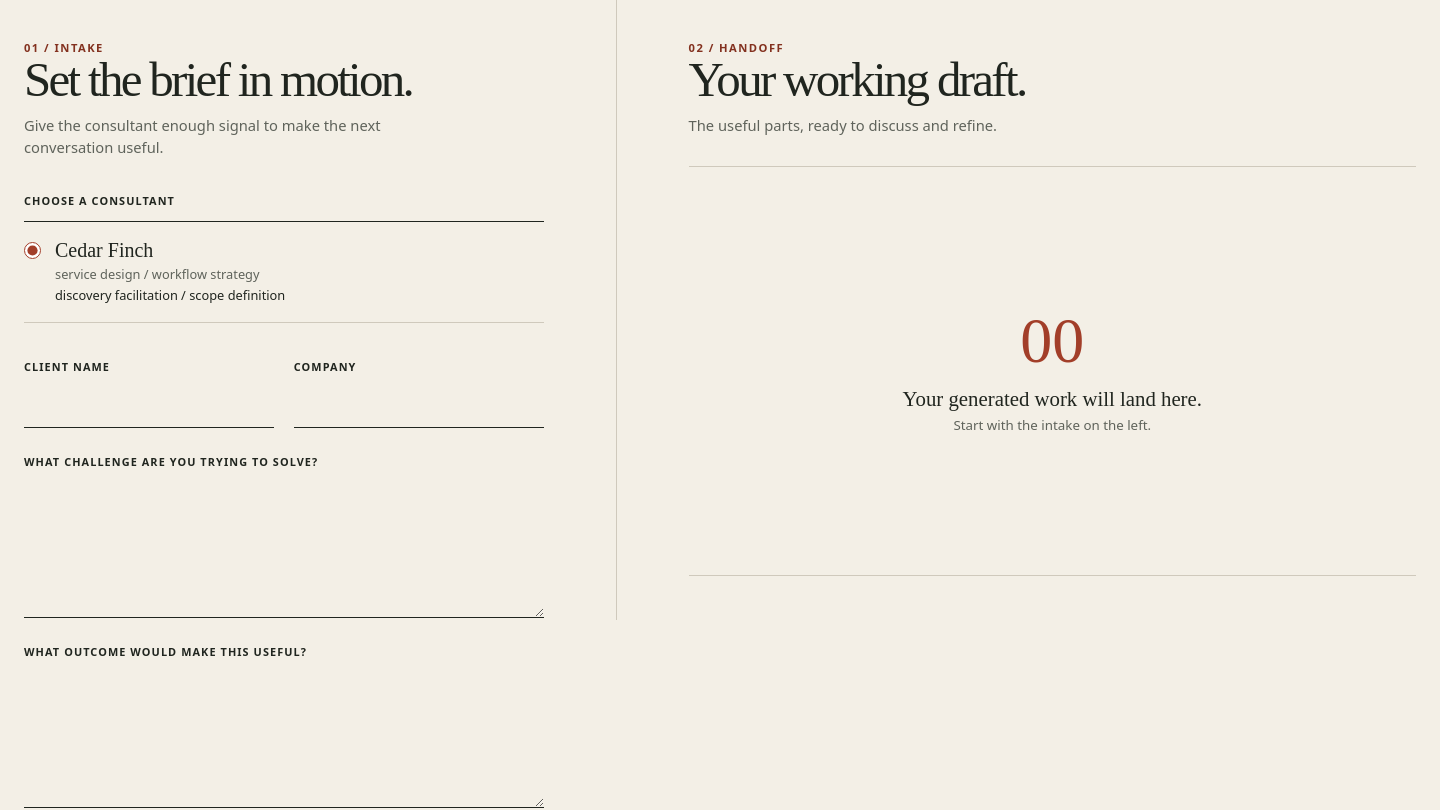
Test: ScopePilot consultant cockpit › renders a generic error when workflow generation fails
(page scrolled)
Check: the radio button labelled "Cedar Finch" is shown, box [24,242,41,258]
Type "Taylor Client" into the field labelled "Client name" at (149, 406), box [24,383,274,428]
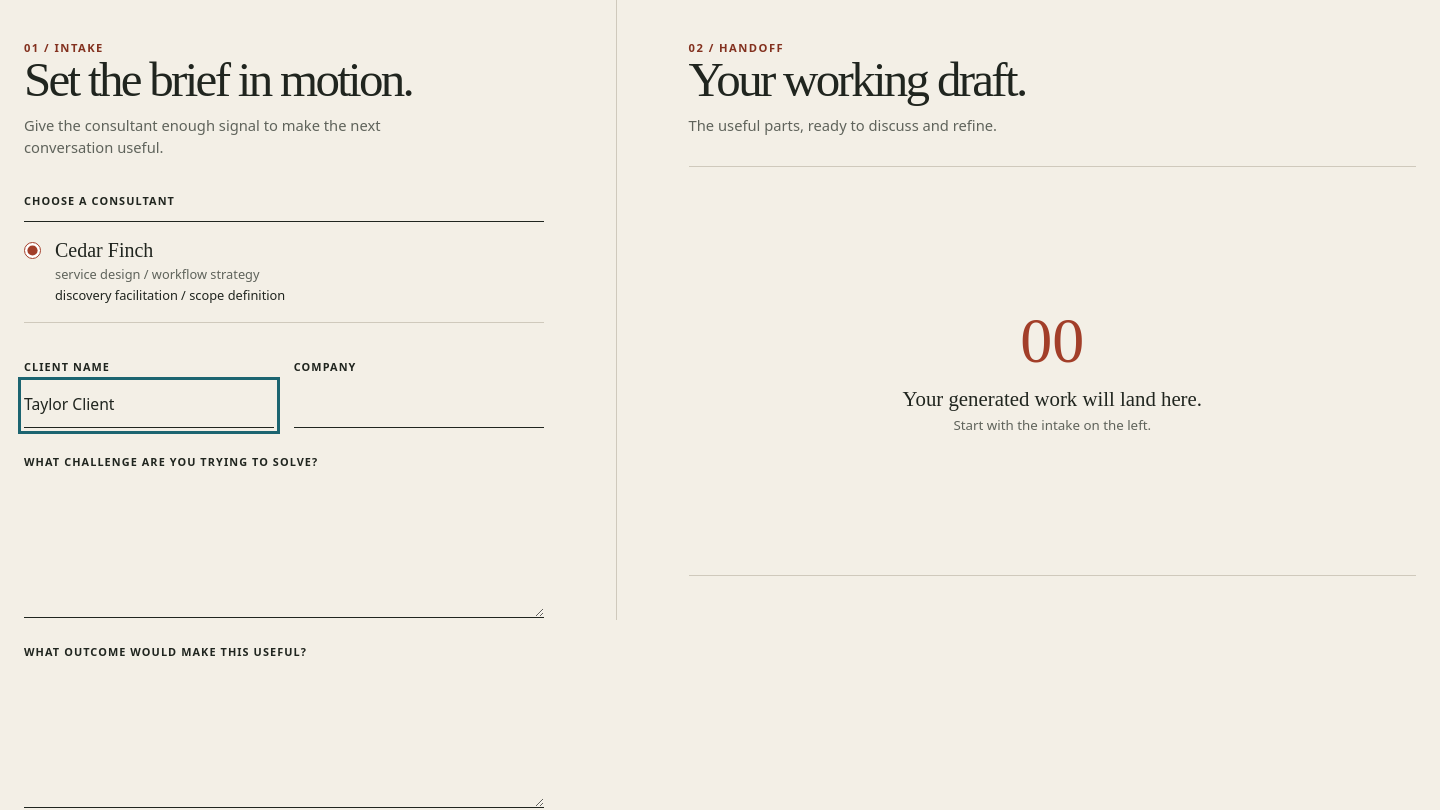
Type "Acme Demo Co." into the field labelled "Company" at (419, 406), box [294,383,544,428]
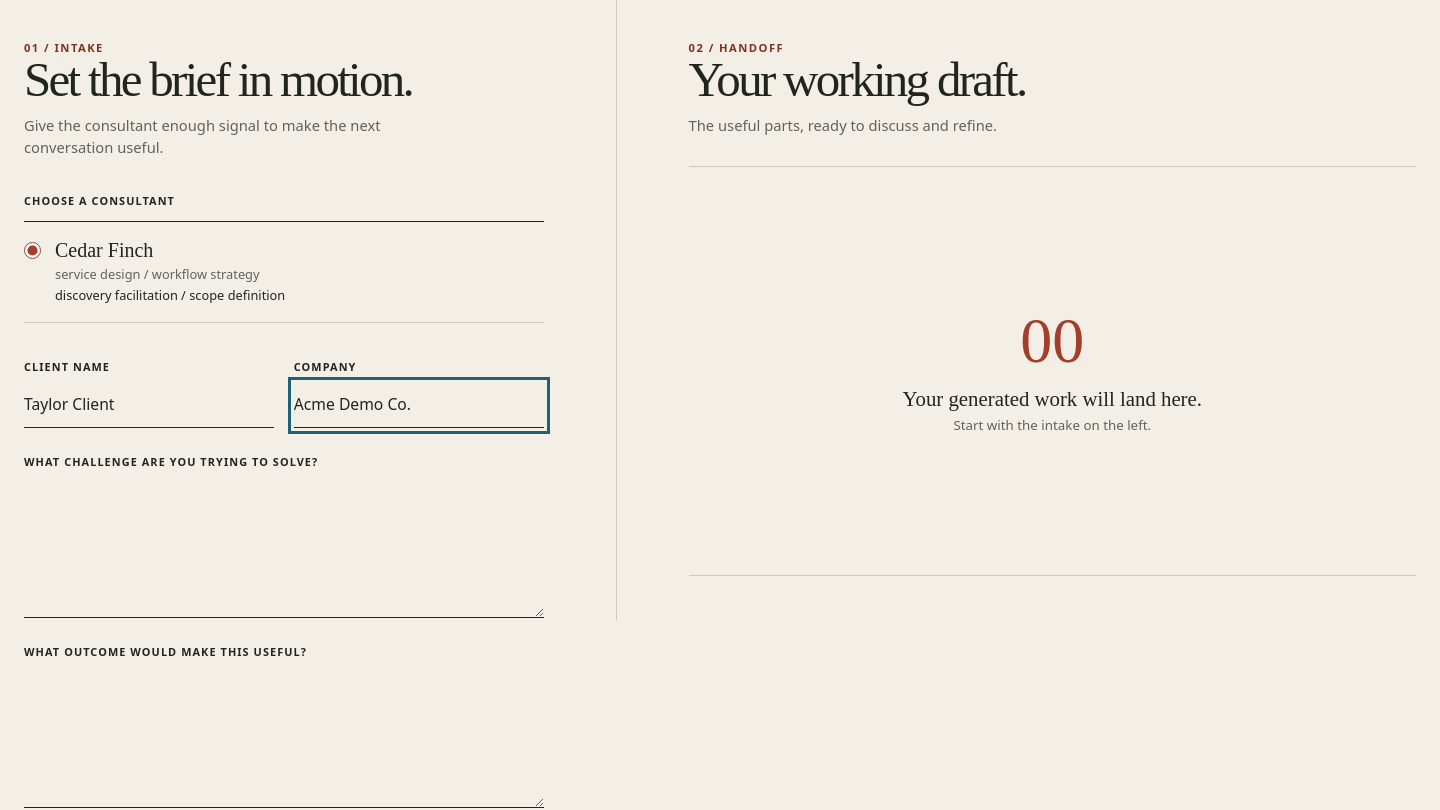
Type "The team needs a clearer way to scope incoming work." into the text box labelled "What challenge are you trying to solve?" at (284, 548), box [24,478,544,618]
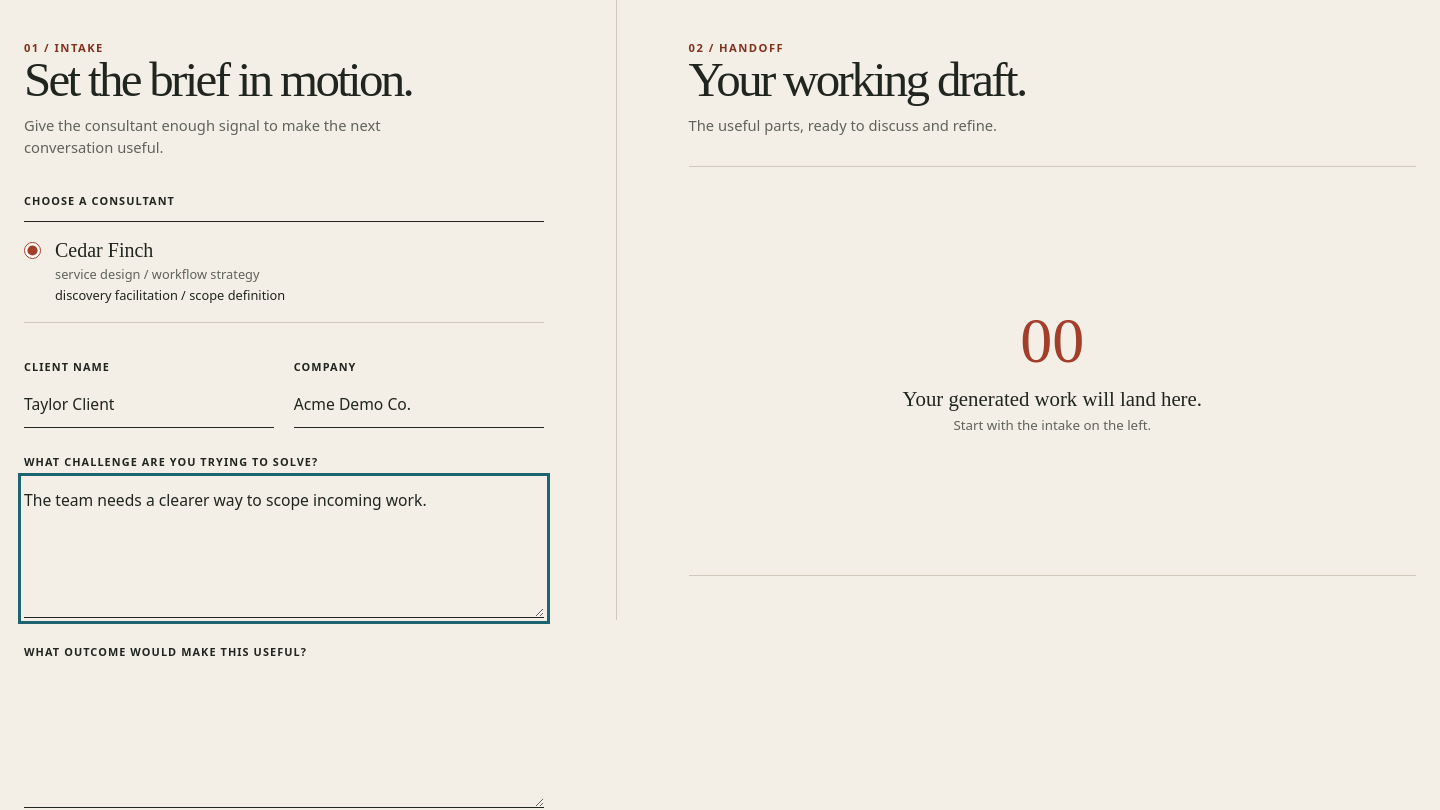
Type "A repeatable discovery and proposal workflow." into the text box labelled "What outcome would make this useful?" at (284, 738), box [24,668,544,808]
(page scrolled)
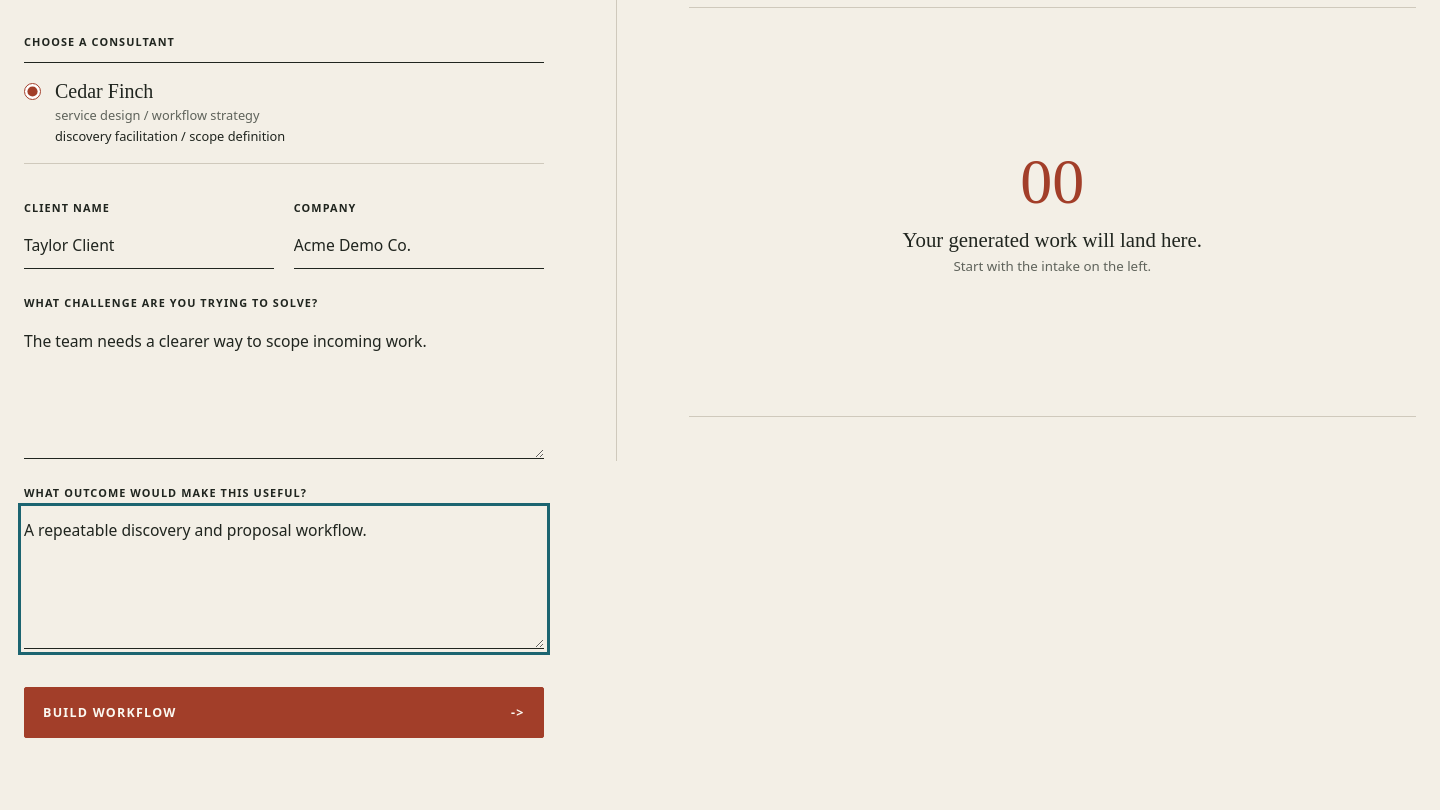
Click the button "Build workflow ->" at (110, 712), box [24,687,544,738]
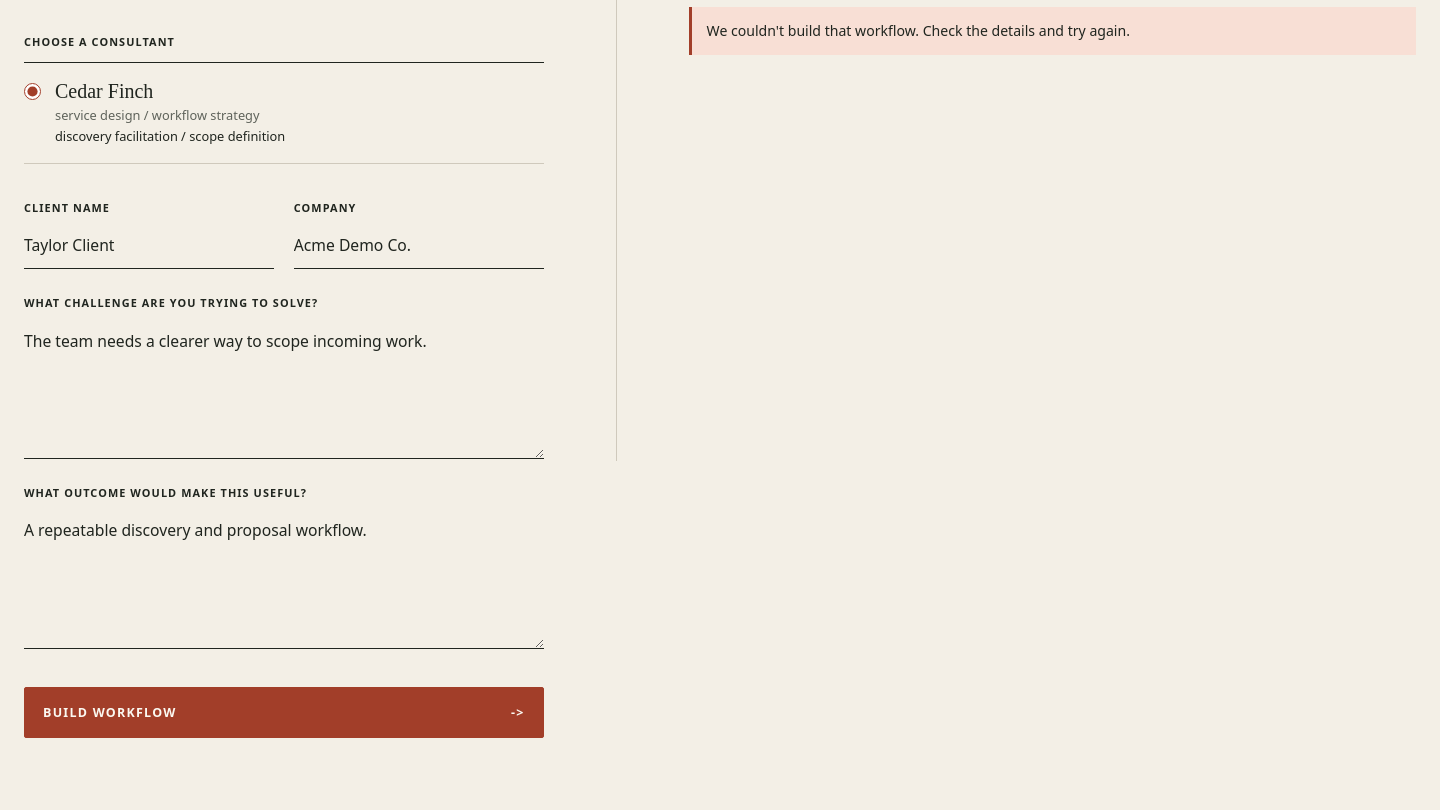
Check: the message does not show "private credential", box [689,8,1416,55]
Check: the message reads "We couldn't build that workflow. Check the details and try again.", box [707,22,1130,40]
